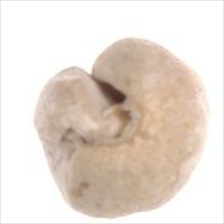L3: (70, 75, 145, 149)
L4: (34, 37, 210, 218)
